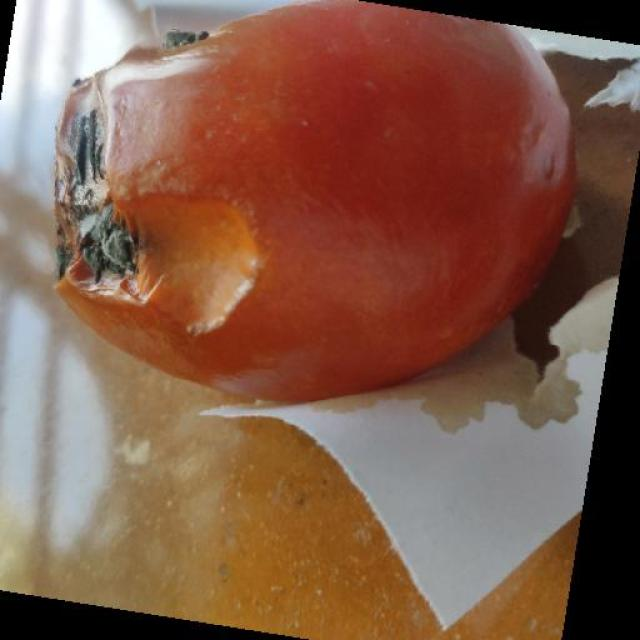Stale_tomato: (25, 0, 510, 425)
